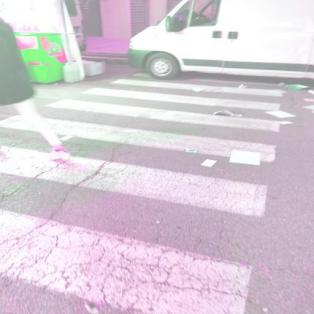Paso de Cebra: (1, 97, 293, 167)
